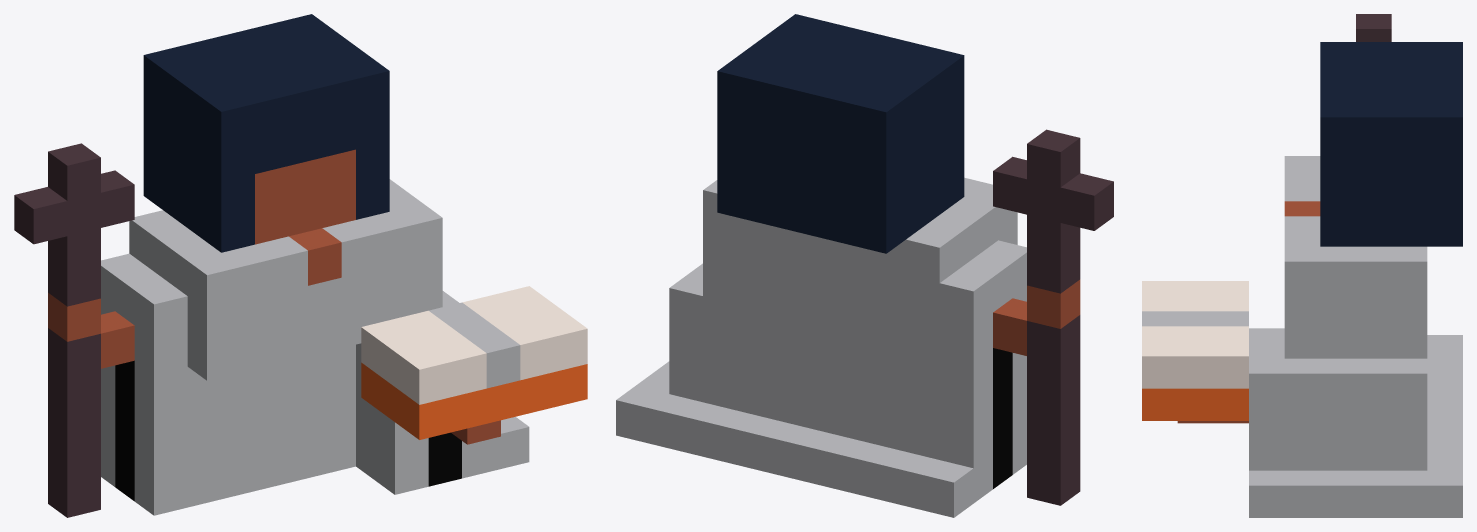
The model's file is priestess_idle_1.obj.
The picture shows the model from 3 angles, left to right: view 1: azimuth 30°, elevation 25°; view 2: azimuth 150°, elevation 25°; view 3: azimuth 270°, elevation 25°; orthographic projection. The views are drawn at different scales.
Size of the model in its own units: 1.3 by 1.1 by 0.9.
1 material, 1 textured.
